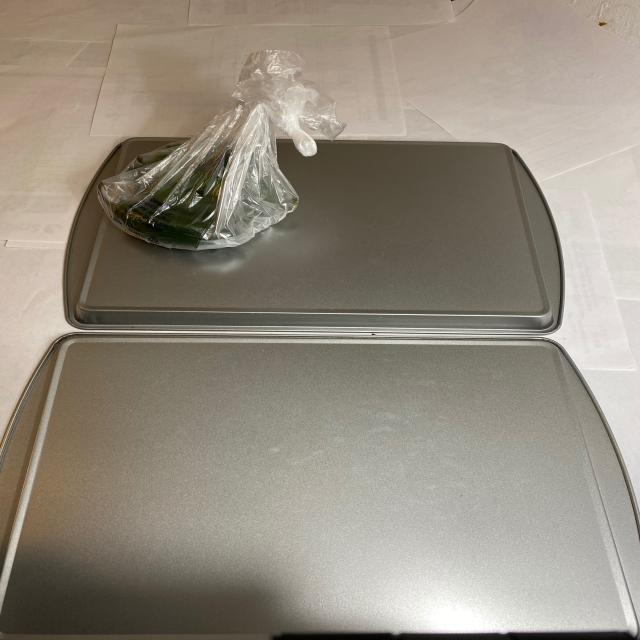chilli: (95, 149, 297, 247)
